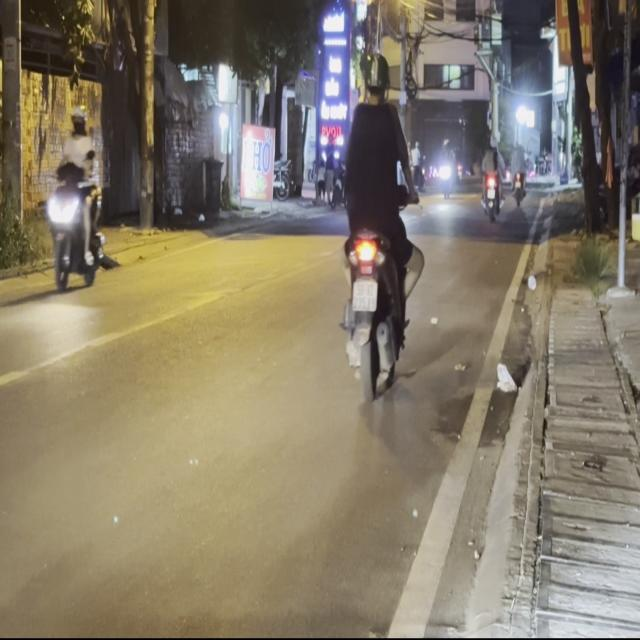helmet: (360, 49, 390, 102), (69, 104, 86, 135)
licenseplate: (336, 48, 422, 403), (43, 102, 107, 294)
nohelmet: (352, 282, 378, 312)
